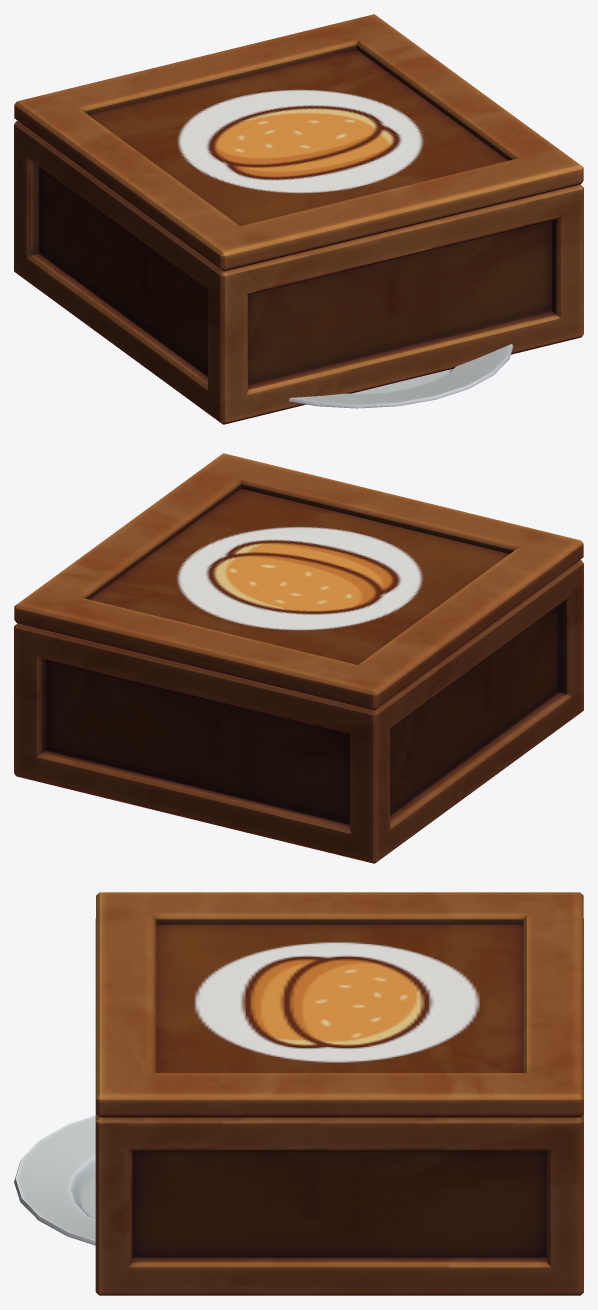
The picture shows the model from 3 angles, top to bottom: view 1: azimuth 30°, elevation 25°; view 2: azimuth 150°, elevation 25°; view 3: azimuth 270°, elevation 25°; orthographic projection. The views are drawn at different scales.
Visible parts, largest first — view 1: Ingredients_Box, Ingredients_Box_Lid, Plate.001; view 2: Ingredients_Box, Ingredients_Box_Lid; view 3: Ingredients_Box_Lid, Ingredients_Box, Plate.001.
Part boxes in pixels (x1=…): Ingredients_Box: x1=14, y1=121, x2=583, y2=424; Ingredients_Box_Lid: x1=14, y1=14, x2=583, y2=271; Plate.001: x1=289, y1=344, x2=513, y2=408; Ingredients_Box: x1=14, y1=560, x2=583, y2=863; Ingredients_Box_Lid: x1=14, y1=453, x2=583, y2=710; Ingredients_Box_Lid: x1=96, y1=892, x2=583, y2=1117; Ingredients_Box: x1=95, y1=918, x2=583, y2=1295; Plate.001: x1=14, y1=1115, x2=95, y2=1245.
Bounding box in the file's own units: 2 × 0.9513 × 2.34.
2 materials, 2 textured.
